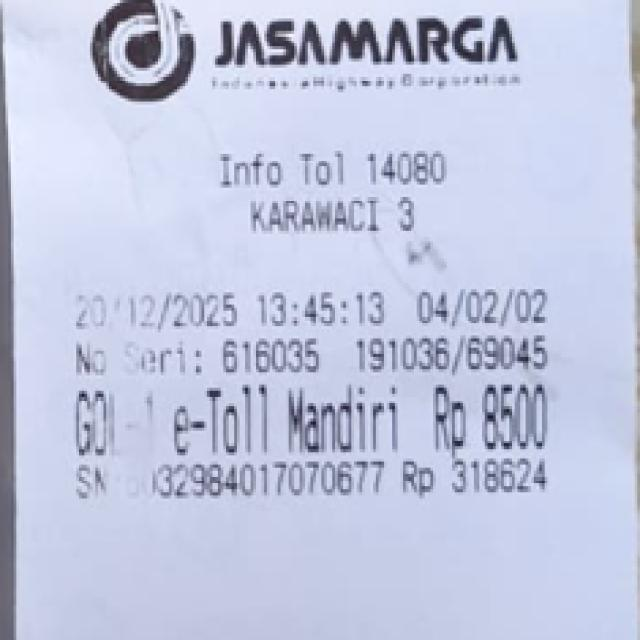date: (59, 292, 389, 329)
store: (220, 7, 543, 88)
total: (435, 378, 564, 451)
